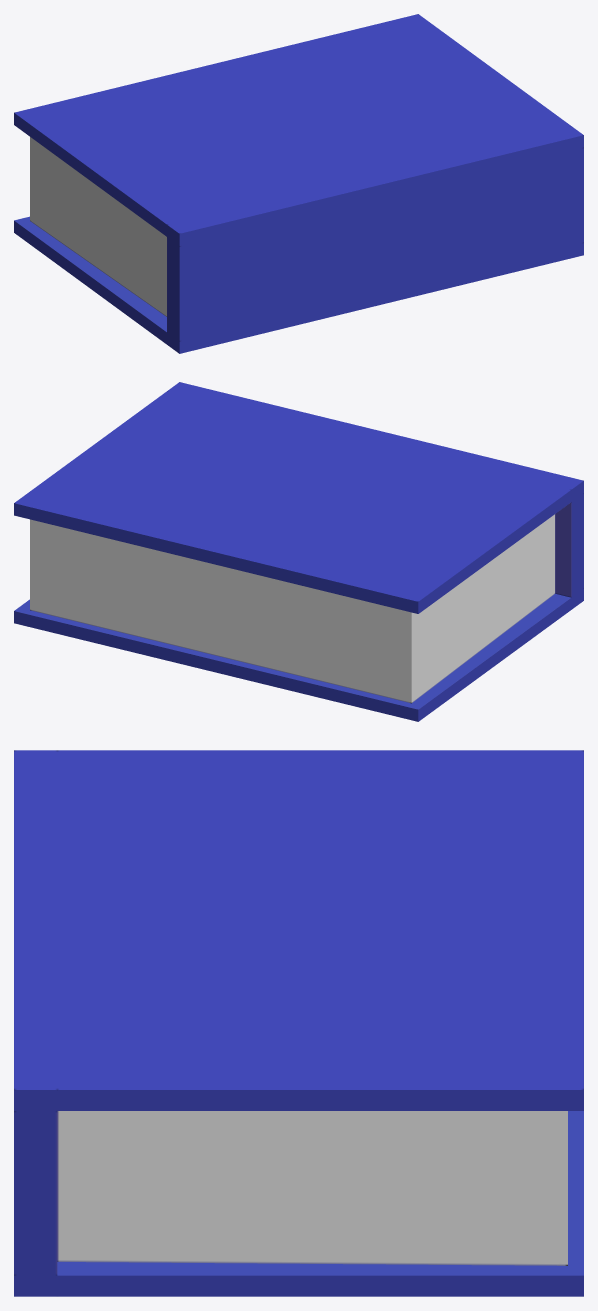
The model's file is Book6.fbx.
The picture shows the model from 3 angles, top to bottom: view 1: azimuth 30°, elevation 25°; view 2: azimuth 150°, elevation 25°; view 3: azimuth 270°, elevation 25°; orthographic projection. The views are drawn at different scales.
Visible parts, largest first — view 1: Book; view 2: Book; view 3: Book.
Part boxes in pixels (<box>): Book: <box>14,14,583,353</box>; Book: <box>14,382,583,721</box>; Book: <box>14,750,583,1296</box>.
Bounding box in the file's own units: 282 × 80 × 200.
